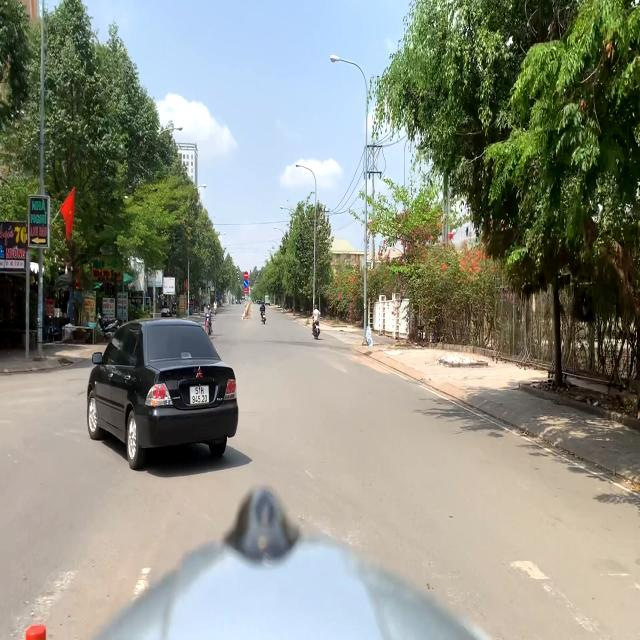Cam di nguoc chieu: (244, 270, 248, 280)
Vong chuong ngai vat sang phai: (243, 279, 248, 288)
